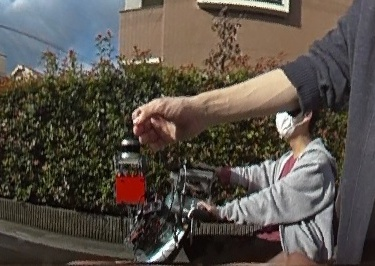person: (210, 84, 339, 266)
